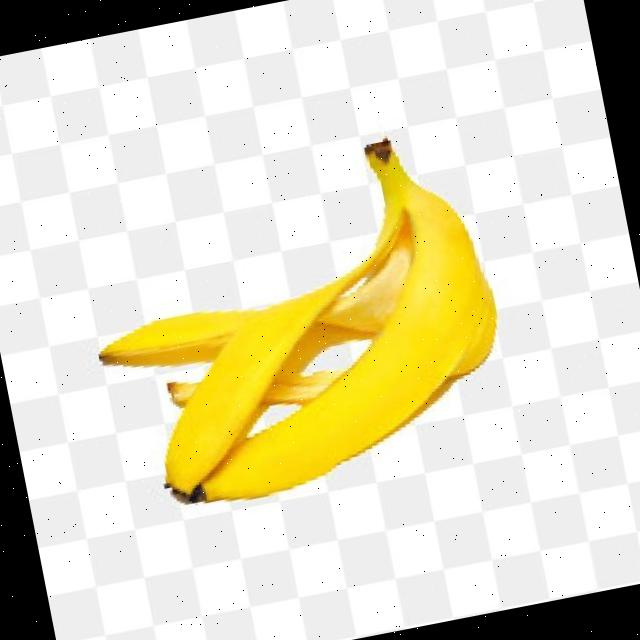banana-peel: (67, 120, 524, 522)
